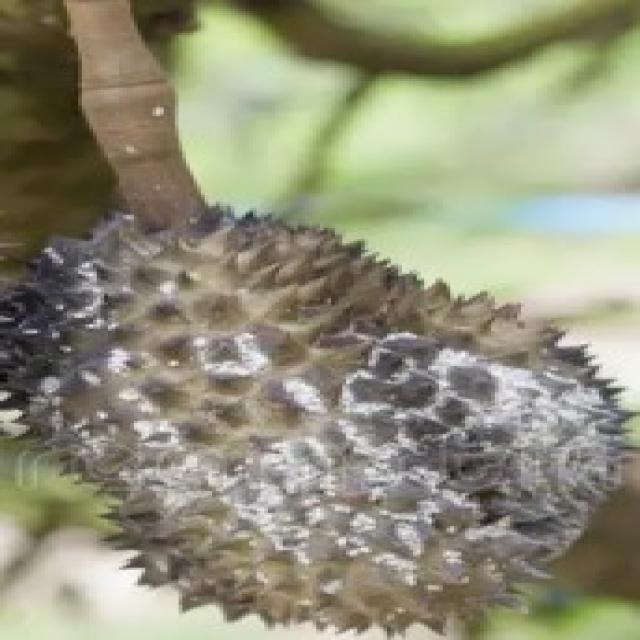defective: (9, 204, 640, 640)
